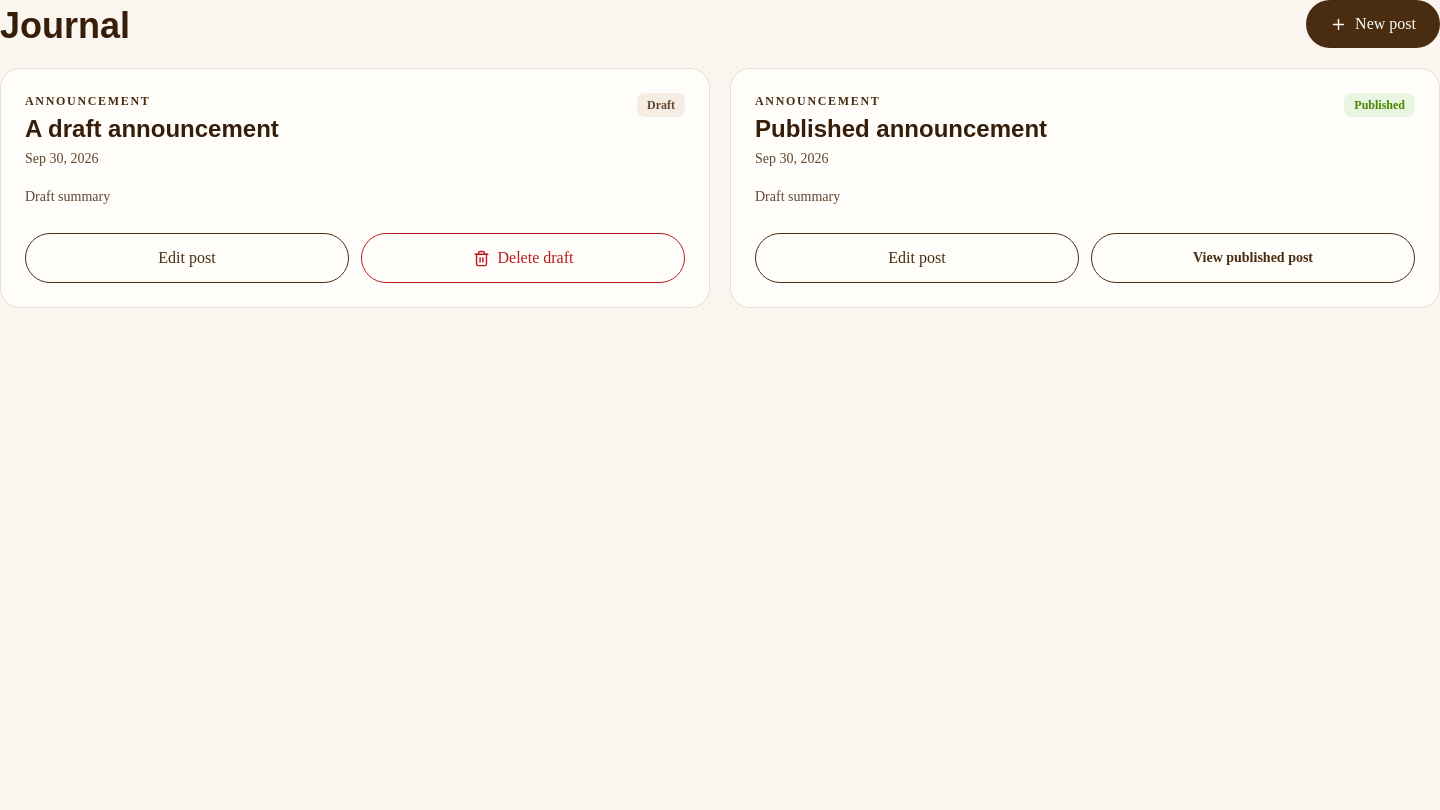
Test: JournalManager › offers deletion only for drafts and requires an irreversible-action confirmation
Click the button "Delete draft" at (523, 258), box 361,233 -> 685,283
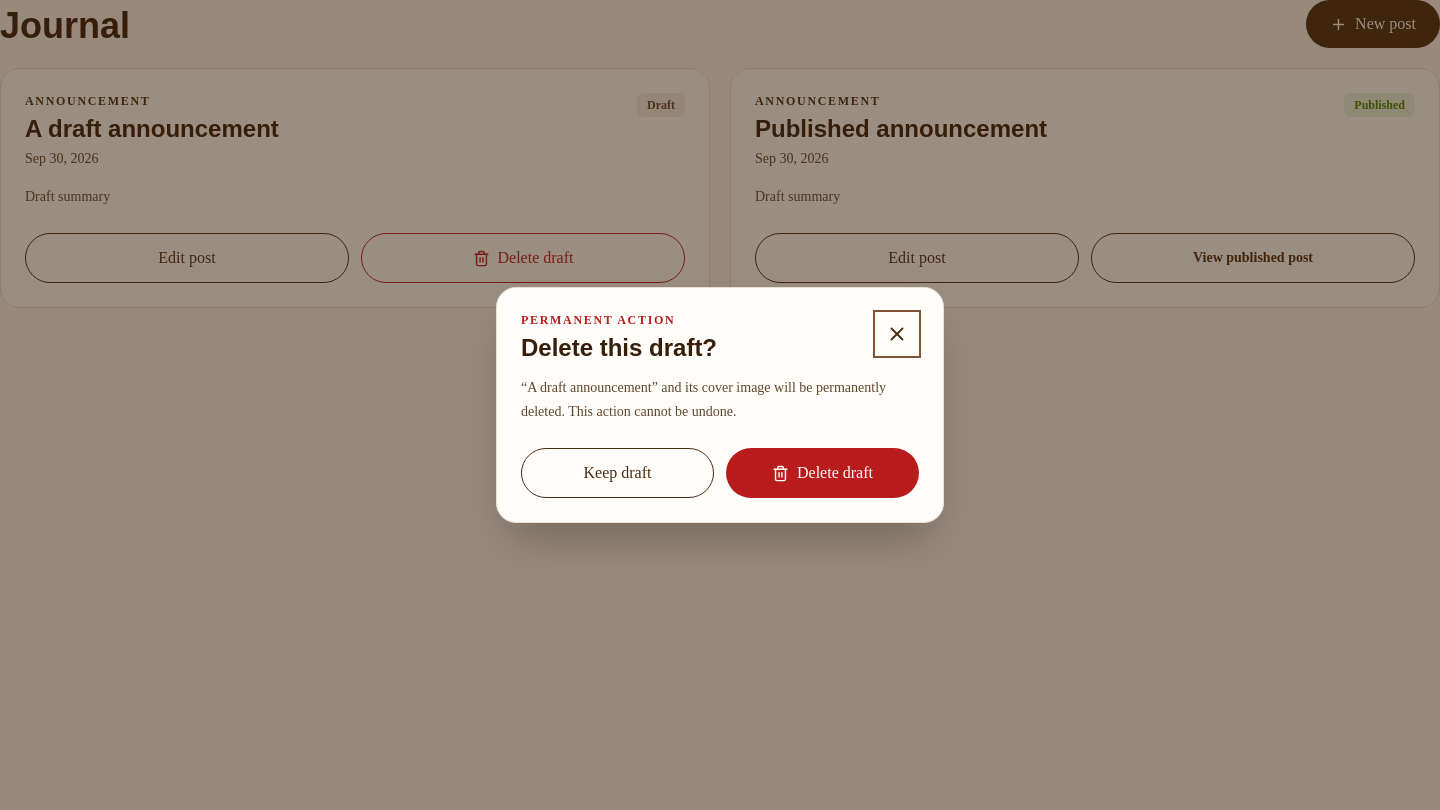
expect the dialog "Delete this draft?" is shown: met, box 496,287 -> 944,523
expect the text "This action cannot be undone." is shown: met, box 521,380 -> 886,419
expect the button "Keep draft" is shown: met, box 521,448 -> 714,498
